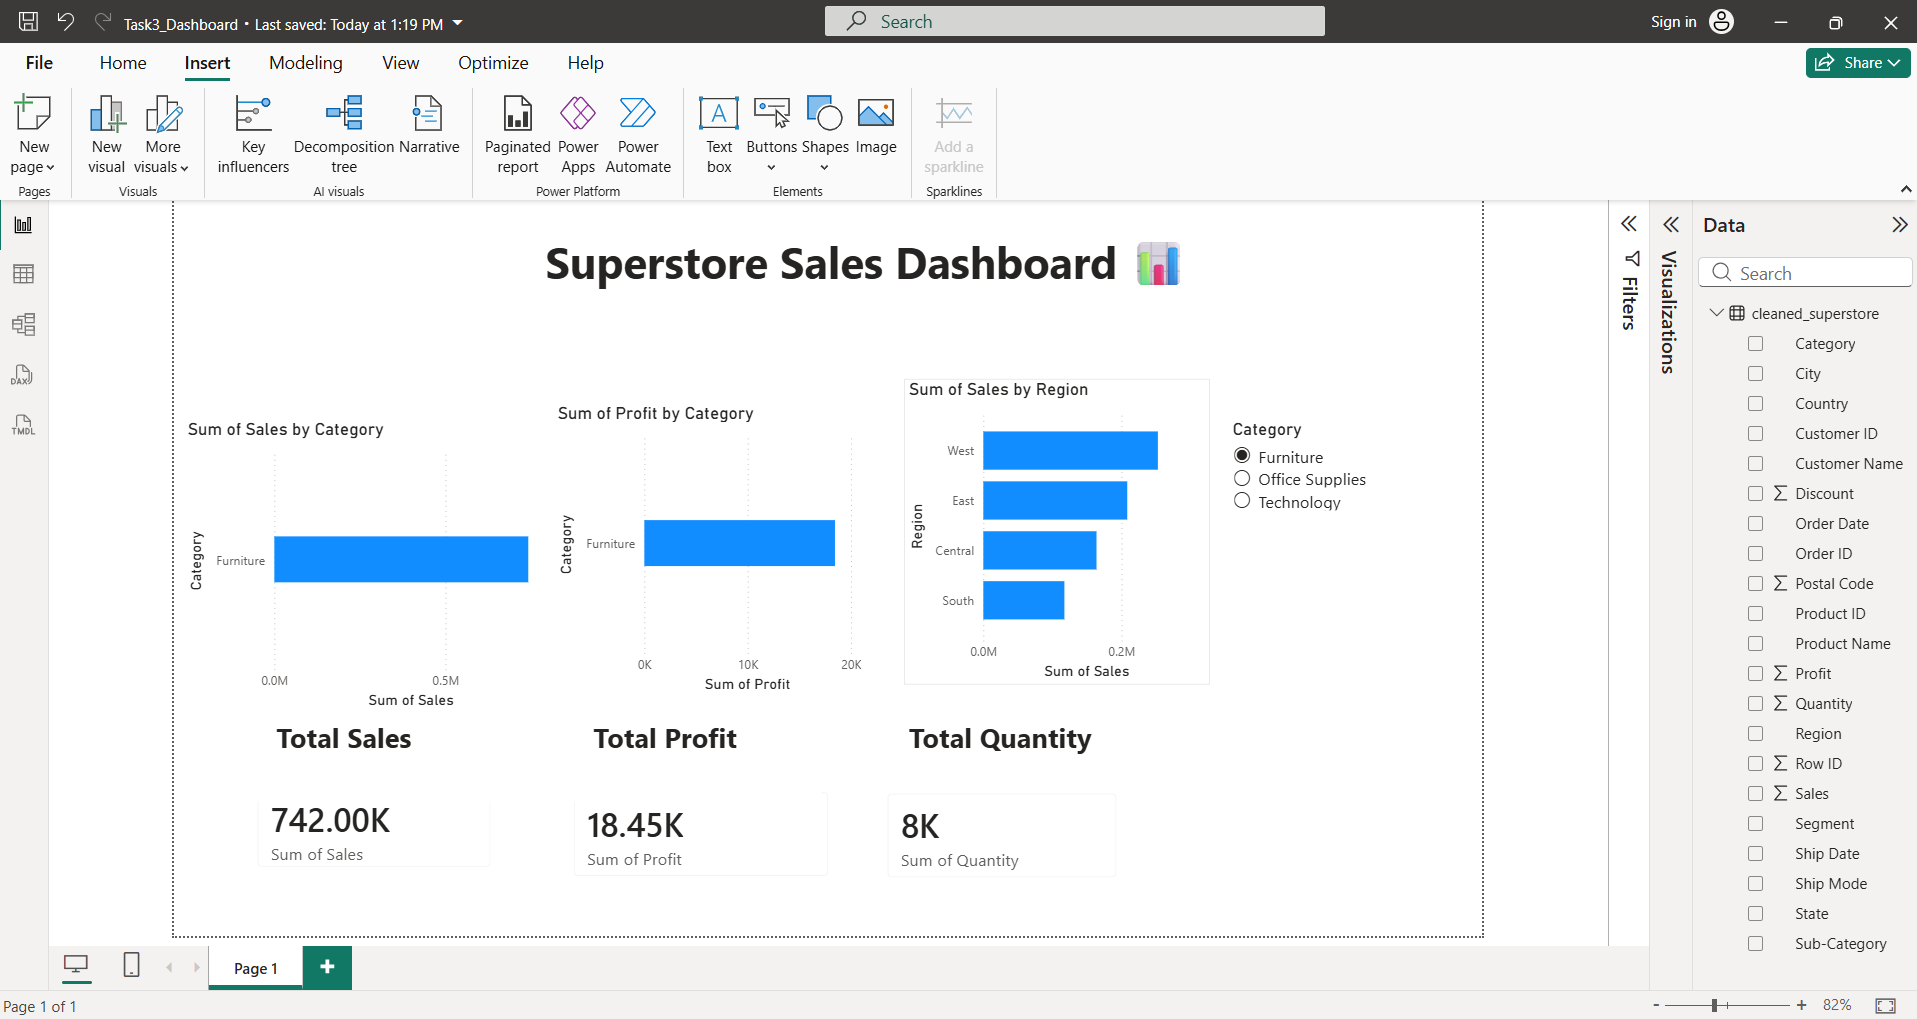

What the dashboard file says about the page in this screenshot:
{"tool":"powerbi","page":{"name":"Page 1","canvas":[1280,720],"ordinal":0},"visuals":[{"type":"clusteredBarChart","fields":{"Category":["cleaned_superstore.Category"],"Y":["Sum(cleaned_superstore.Sales)"]},"box":[8.6,214,376.6,288.6],"z":0},{"type":"clusteredBarChart","fields":{"Category":["cleaned_superstore.Category"],"Y":["Sum(cleaned_superstore.Profit)"]},"box":[370.5,198.1,306.9,288.6],"z":1000},{"type":"clusteredBarChart","fields":{"Category":["cleaned_superstore.Region"],"Y":["Sum(cleaned_superstore.Sales)"]},"box":[714.1,174.9,299.6,299.6],"z":2000},{"type":"listSlicer","fields":{"Values":["cleaned_superstore.Category"]},"box":[1030.8,214,185.9,209.1],"z":3000},{"type":"cardVisual","fields":{"Data":["Sum(cleaned_superstore.Sales)"]},"box":[64.8,562.5,262.9,107.6],"z":3001},{"type":"cardVisual","fields":{"Data":["Sum(cleaned_superstore.Profit)"]},"box":[374.2,562.5,283.7,116.2],"z":3002},{"type":"cardVisual","fields":{"Data":["Sum(cleaned_superstore.Quantity)"]},"box":[681.1,563.7,258,116.2],"z":3003},{"type":"textbox","box":[0,502.6,332.6,85.6],"z":3004},{"type":"textbox","box":[327.7,502.6,305.7,85.6],"z":3005},{"type":"textbox","box":[677.4,502.6,261.7,75.8],"z":3006},{"type":"textbox","box":[325.3,25.7,705.6,149.2],"z":3007}]}

Visuals, with their boxes on the page's 1280x720 design canvas (x1, y1, x2, y2). These are canvas units, not pixel positions in the 1917x1019 screenshot, which may show the page scaled, cropped or inside an application window:
clusteredBarChart - cleaned_superstore.Category x Sum(cleaned_superstore.Sales): region(9, 214, 385, 503)
clusteredBarChart - cleaned_superstore.Category x Sum(cleaned_superstore.Profit): region(370, 198, 677, 487)
clusteredBarChart - cleaned_superstore.Region x Sum(cleaned_superstore.Sales): region(714, 175, 1014, 474)
listSlicer - cleaned_superstore.Category: region(1031, 214, 1217, 423)
cardVisual - Sum(cleaned_superstore.Sales): region(65, 562, 328, 670)
cardVisual - Sum(cleaned_superstore.Profit): region(374, 562, 658, 679)
cardVisual - Sum(cleaned_superstore.Quantity): region(681, 564, 939, 680)
textbox: region(0, 503, 333, 588)
textbox: region(328, 503, 633, 588)
textbox: region(677, 503, 939, 578)
textbox: region(325, 26, 1031, 175)
